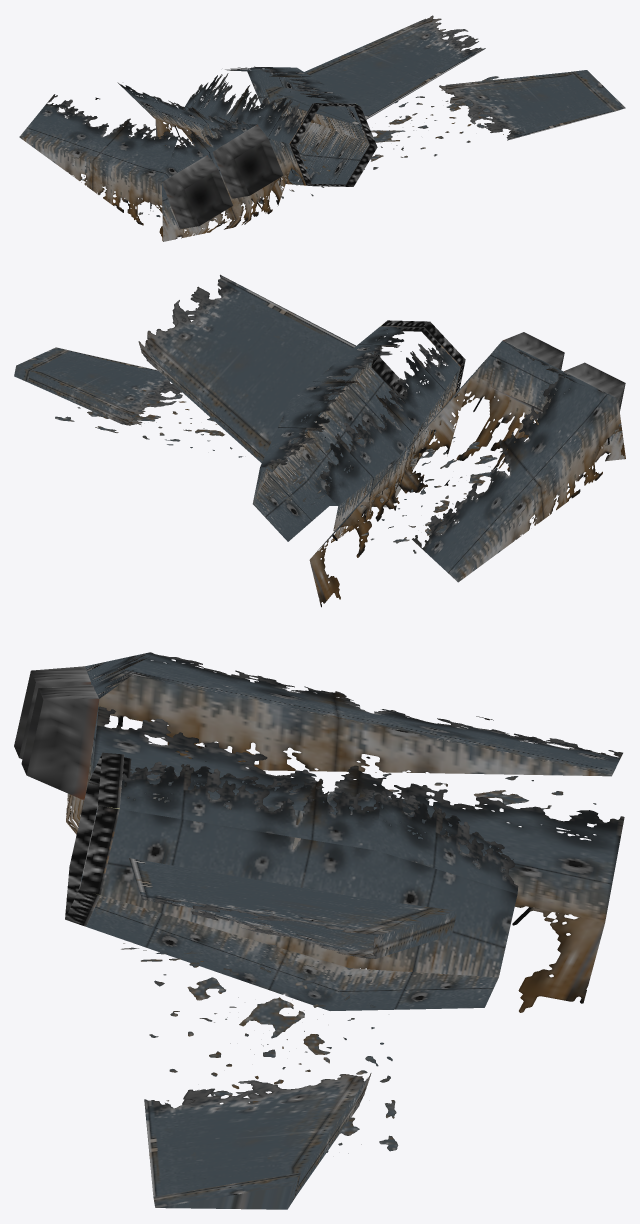
The model's file is crashwing_dam.glb.
The picture shows the model from 3 angles, top to bottom: view 1: azimuth 30°, elevation 25°; view 2: azimuth 150°, elevation 25°; view 3: azimuth 270°, elevation 25°; orthographic projection. The views are drawn at different scales.
Visible parts, largest first — view 1: Crash Wing; view 2: Crash Wing; view 3: Crash Wing.
Part boxes in pixels (<box>): Crash Wing: <box>19,15,625,241</box>; Crash Wing: <box>14,274,625,607</box>; Crash Wing: <box>14,652,624,1209</box>.
Size of the model in its own units: 53.5 by 17.99 by 31.31.
4 materials, 4 textured.
